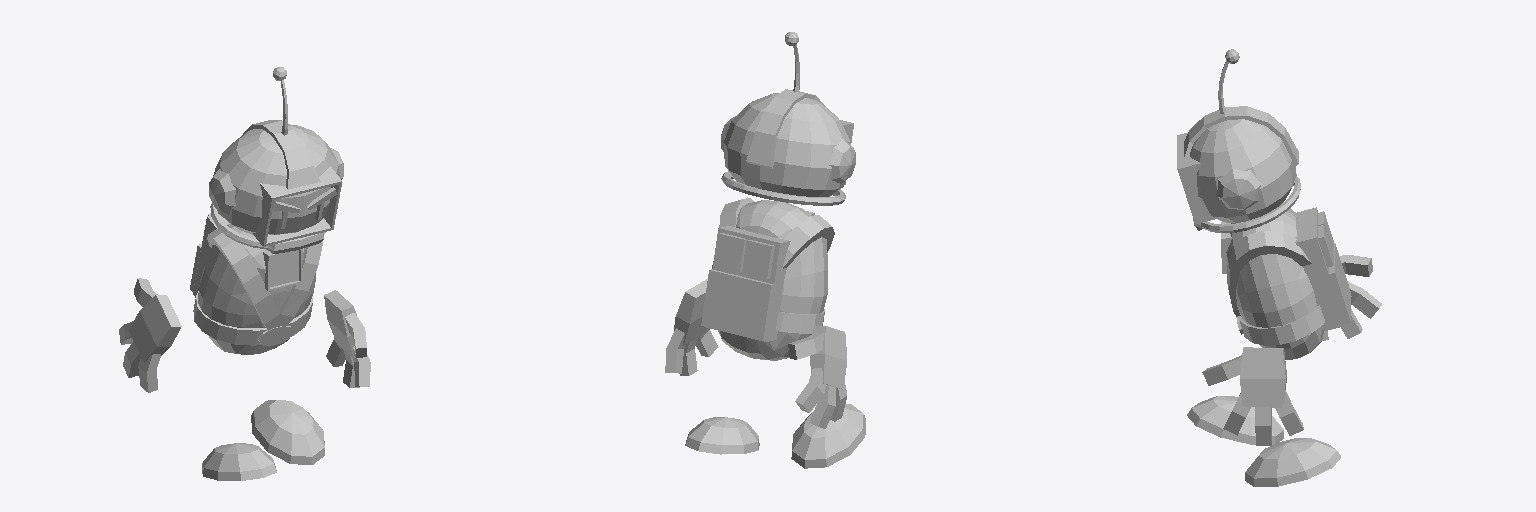
File: bomberman_000004.obj
3 views of the same model, side by side, from view 1: azimuth 30°, elevation 25°; view 2: azimuth 150°, elevation 25°; view 3: azimuth 270°, elevation 25° (orthographic).
Visible parts, largest first — view 1: BM_BODY.002_Mesh.009, BM_Head.002_Mesh.005, BM_Head.001_Mesh.004, BM_BODY.001_Mesh.008, R_Hand_Mesh.003, L_Foot_Mesh, L_Hand_Mesh.002, R_Foot_Mesh.001; view 2: BM_BODY.002_Mesh.009, BM_Head.002_Mesh.005, BM_BODY.001_Mesh.008, BM_Head.001_Mesh.004, R_Hand_Mesh.003, R_Foot_Mesh.001, L_Hand_Mesh.002, L_Foot_Mesh; view 3: BM_BODY.002_Mesh.009, BM_Head.002_Mesh.005, BM_BODY.001_Mesh.008, BM_Head.001_Mesh.004, L_Hand_Mesh.002, L_Foot_Mesh, R_Foot_Mesh.001, R_Hand_Mesh.003.
Boxes of the visible parts, x1=… form: BM_BODY.002_Mesh.009: x1=190, y1=213, x2=322, y2=346; BM_Head.002_Mesh.005: x1=213, y1=124, x2=339, y2=253; BM_Head.001_Mesh.004: x1=209, y1=120, x2=343, y2=249; BM_BODY.001_Mesh.008: x1=198, y1=223, x2=315, y2=354; R_Hand_Mesh.003: x1=119, y1=278, x2=181, y2=392; L_Foot_Mesh: x1=251, y1=400, x2=324, y2=464; L_Hand_Mesh.002: x1=324, y1=290, x2=370, y2=387; R_Foot_Mesh.001: x1=202, y1=443, x2=276, y2=480; BM_BODY.002_Mesh.009: x1=701, y1=198, x2=834, y2=341; BM_Head.002_Mesh.005: x1=723, y1=93, x2=850, y2=196; BM_BODY.001_Mesh.008: x1=712, y1=200, x2=827, y2=360; BM_Head.001_Mesh.004: x1=721, y1=89, x2=855, y2=205; R_Hand_Mesh.003: x1=788, y1=326, x2=846, y2=428; R_Foot_Mesh.001: x1=791, y1=404, x2=865, y2=468; L_Hand_Mesh.002: x1=665, y1=279, x2=717, y2=375; L_Foot_Mesh: x1=685, y1=417, x2=759, y2=454; BM_BODY.002_Mesh.009: x1=1221, y1=207, x2=1350, y2=345; BM_Head.002_Mesh.005: x1=1190, y1=119, x2=1296, y2=230; BM_BODY.001_Mesh.008: x1=1226, y1=210, x2=1323, y2=359; BM_Head.001_Mesh.004: x1=1177, y1=106, x2=1300, y2=232; L_Hand_Mesh.002: x1=1202, y1=347, x2=1303, y2=445; L_Foot_Mesh: x1=1245, y1=438, x2=1340, y2=486; R_Foot_Mesh.001: x1=1187, y1=396, x2=1283, y2=444; R_Hand_Mesh.003: x1=1322, y1=255, x2=1381, y2=340.
Size of the model in its own units: 3.91 by 7.98 by 3.6.